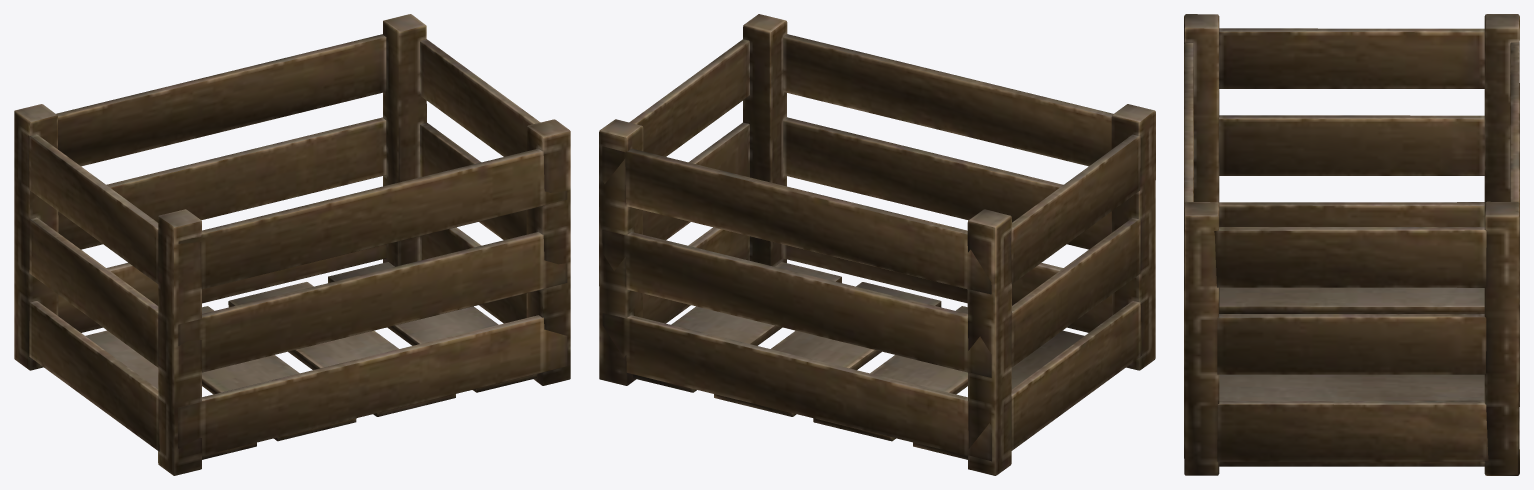
Rendered from wood_crate-low.glb.
3 views of the same model, side by side, from view 1: azimuth 30°, elevation 25°; view 2: azimuth 150°, elevation 25°; view 3: azimuth 270°, elevation 25° (orthographic). The views are drawn at different scales.
Parts seen in each view (by area): view 1: wood_crate-low; view 2: wood_crate-low; view 3: wood_crate-low.
Boxes of the visible parts, box(x1,y1,x2,y2) form: wood_crate-low: box(14, 14, 570, 475); wood_crate-low: box(599, 14, 1155, 475); wood_crate-low: box(1184, 14, 1519, 475).
Size of the model in its own units: 0.6 by 0.36 by 0.42.
1 material, 1 textured.
